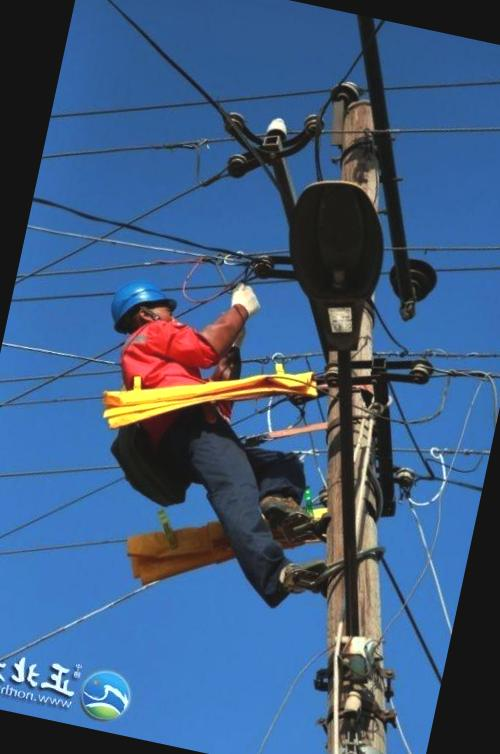helmet: (107, 272, 180, 328)
person: (47, 252, 332, 606)
